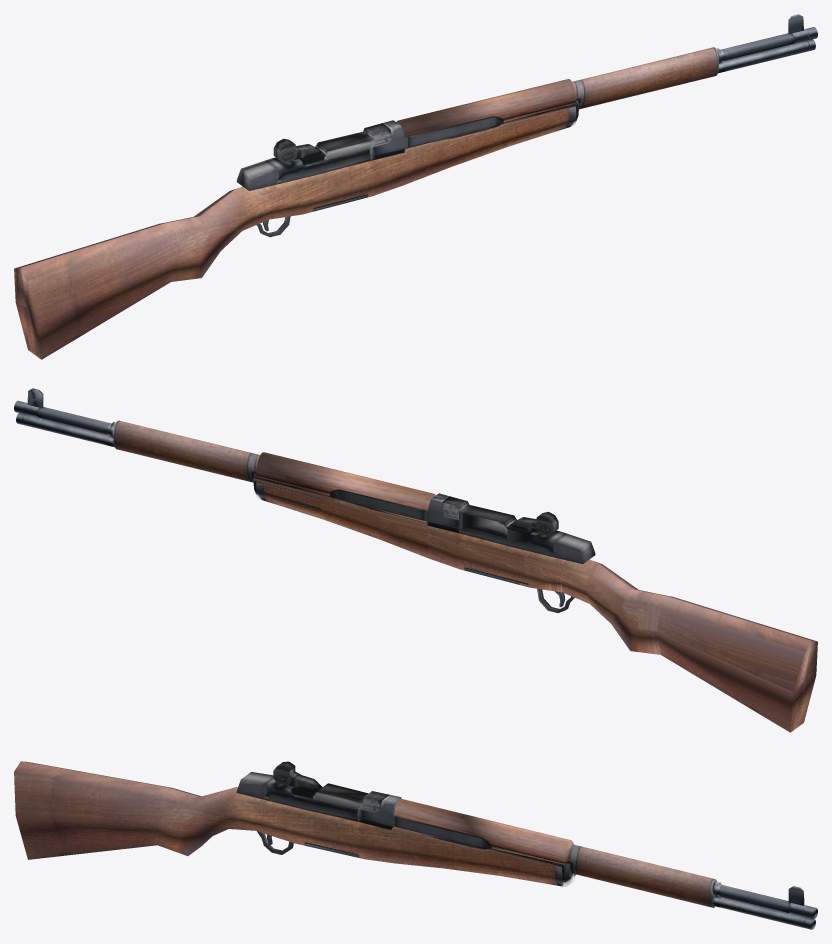
The model's file is RifleObj.obj.
The picture shows the model from 3 angles, top to bottom: view 1: azimuth 30°, elevation 25°; view 2: azimuth 150°, elevation 25°; view 3: azimuth 330°, elevation 25°; orthographic projection.
Parts seen in each view (by area): view 1: Plane01, Cylinder01, Plane03, Cylinder02, Plane17, Plane18; view 2: Plane17, Cylinder01, Plane18, Cylinder02, Plane01, Plane03; view 3: Plane01, Cylinder01, Plane03, Cylinder02, Plane05, Plane18.
Boxes of the visible parts, bbox=[...] form: Plane01: bbox=[20, 101, 579, 359]; Cylinder01: bbox=[396, 47, 718, 148]; Plane03: bbox=[243, 116, 503, 190]; Cylinder02: bbox=[716, 27, 817, 73]; Plane17: bbox=[14, 189, 234, 354]; Plane18: bbox=[236, 120, 396, 186]; Plane17: bbox=[253, 475, 810, 732]; Cylinder01: bbox=[113, 420, 435, 522]; Plane18: bbox=[330, 489, 589, 563]; Cylinder02: bbox=[14, 400, 115, 447]; Plane01: bbox=[597, 562, 817, 727]; Plane03: bbox=[435, 493, 595, 559]; Plane01: bbox=[14, 761, 570, 887]; Cylinder01: bbox=[393, 798, 716, 907]; Plane03: bbox=[236, 775, 491, 848]; Cylinder02: bbox=[711, 881, 817, 929]; Plane05: bbox=[273, 763, 319, 791]; Plane18: bbox=[246, 772, 401, 801].
Size of the model in its own units: 15198 by 2801 by 766.
Materials: 1 (1 with a texture image).
